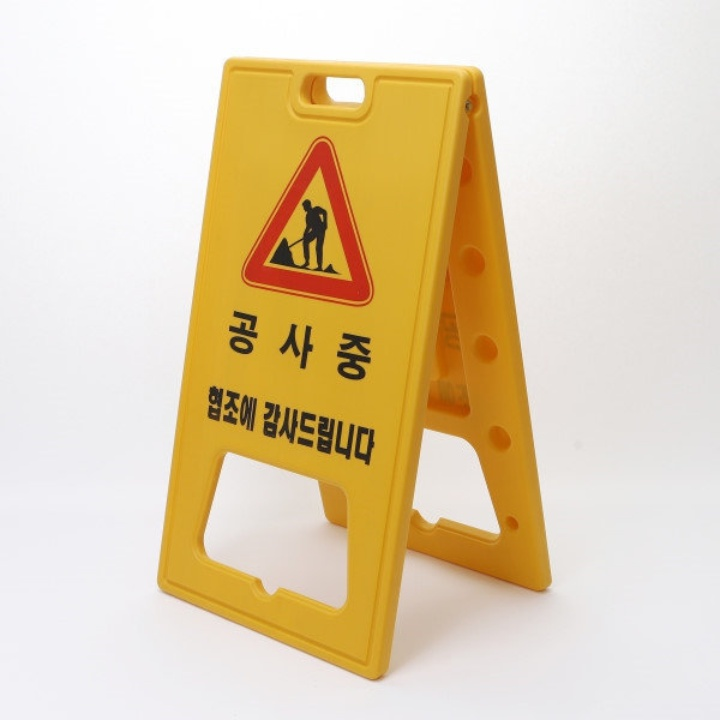const: (261, 183, 349, 283)
